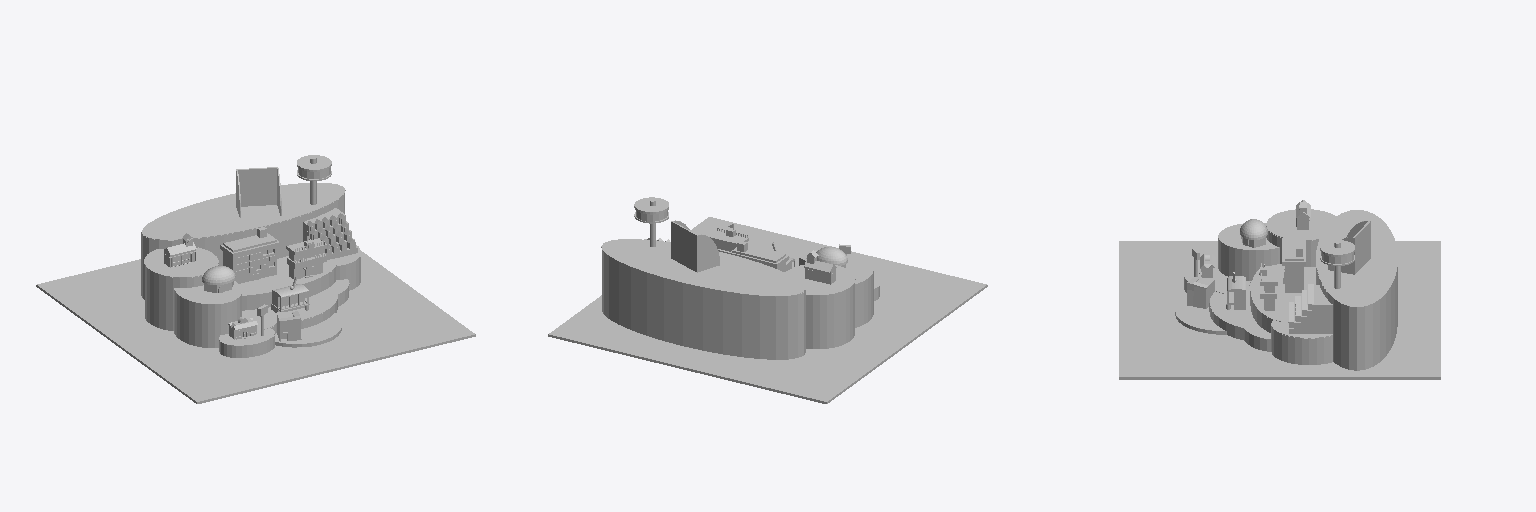
Rendered from island.obj.
3 renders of one model, left to right at view 1: azimuth 30°, elevation 25°; view 2: azimuth 150°, elevation 25°; view 3: azimuth 270°, elevation 25°, orthographic.
Parts seen in each view (by area): view 1: obj_0; view 2: obj_0; view 3: obj_0.
Part boxes in pixels (x1,y1,x2,y2): obj_0: (36,155,475,403); obj_0: (548,197,987,403); obj_0: (1119,200,1440,379).
Size of the model in its own units: 99.8 by 38.2 by 99.8.